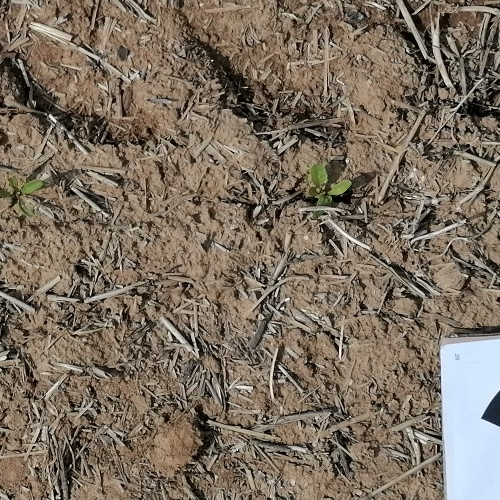beet: (305, 163, 353, 215), (0, 176, 44, 218)
